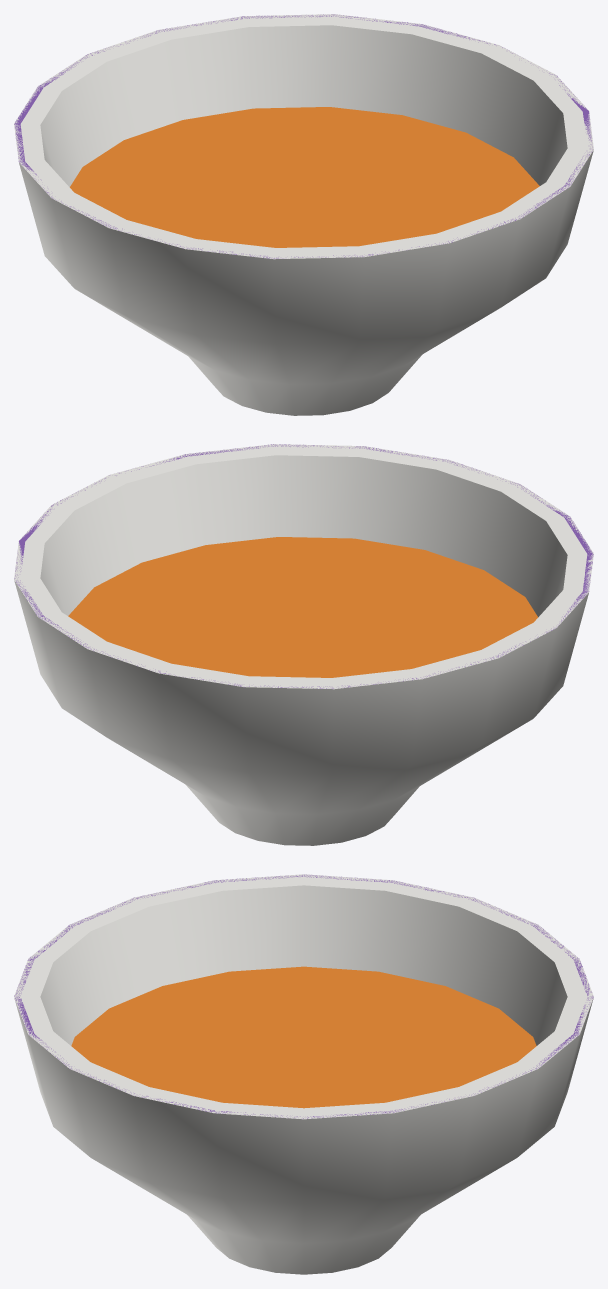
The model's file is bowl.glb.
3 renders of one model, top to bottom at view 1: azimuth 30°, elevation 25°; view 2: azimuth 150°, elevation 25°; view 3: azimuth 270°, elevation 25°, orthographic.
Visible parts, largest first — view 1: root; view 2: root; view 3: root.
Part boxes in pixels (x1,y1,x2,y2): root: [14, 14, 593, 415]; root: [14, 444, 593, 845]; root: [14, 874, 593, 1274].
Bounding box in the file's own units: 0.44 × 0.2 × 0.44.
